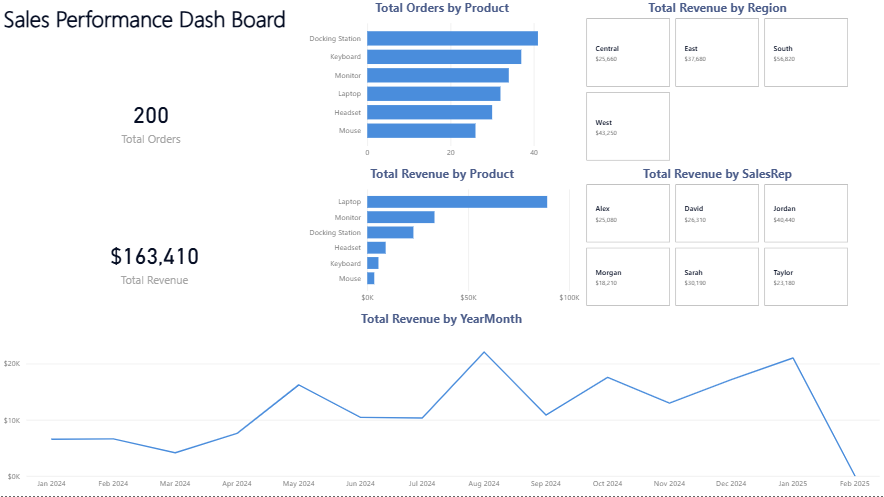

This screenshot's page, from the dashboard's own definition file:
{"tool":"powerbi","page":{"name":"Page 1","canvas":[1280,720],"ordinal":0},"visuals":[{"type":"card","fields":{"Values":["SalesData.Total Orders"]},"box":[84.1,95.7,269.6,160.9],"z":0},{"type":"card","fields":{"Values":["SalesData.Total Revenue"]},"box":[84.1,301.4,279.7,159.4],"z":1000},{"type":"barChart","fields":{"Y":["SalesData.Total Revenue"],"Category":["SalesData.Product"]},"box":[436.2,240.6,408.7,210.1],"z":2000},{"type":"barChart","fields":{"Category":["SalesData.Product"],"Y":["SalesData.Total Orders"]},"box":[436.2,0,408.7,240.6],"z":3000},{"type":"advancedSlicerVisual","fields":{"Values":["SalesData.Region"],"Label":["SalesData.Total Revenue"]},"box":[844.9,0,389.9,240.6],"z":4000},{"type":"advancedSlicerVisual","fields":{"Values":["SalesData.SalesRep"],"Label":["SalesData.Total Revenue"]},"box":[844.9,240.6,389.9,210.1],"z":5000},{"type":"lineChart","fields":{"Category":["SalesData.YearMonth"],"Y":["SalesData.Total Revenue"]},"box":[0,450.7,1279.7,269.6],"z":6000},{"type":"textbox","box":[0,0,436.2,79.7],"z":6501}]}

Visuals, with their boxes in screenshot pixels (x1, y1, x2, y2), scaled from the page's 1280x720 canvas onto the 884x497 screenshot:
card - SalesData.Total Orders: box(58, 66, 244, 177)
card - SalesData.Total Revenue: box(58, 208, 251, 318)
barChart - SalesData.Total Revenue x SalesData.Product: box(301, 166, 584, 311)
barChart - SalesData.Product x SalesData.Total Orders: box(301, 0, 584, 166)
advancedSlicerVisual - SalesData.Region x SalesData.Total Revenue: box(584, 0, 853, 166)
advancedSlicerVisual - SalesData.SalesRep x SalesData.Total Revenue: box(584, 166, 853, 311)
lineChart - SalesData.YearMonth x SalesData.Total Revenue: box(0, 311, 883, 496)
textbox: box(0, 0, 301, 55)
